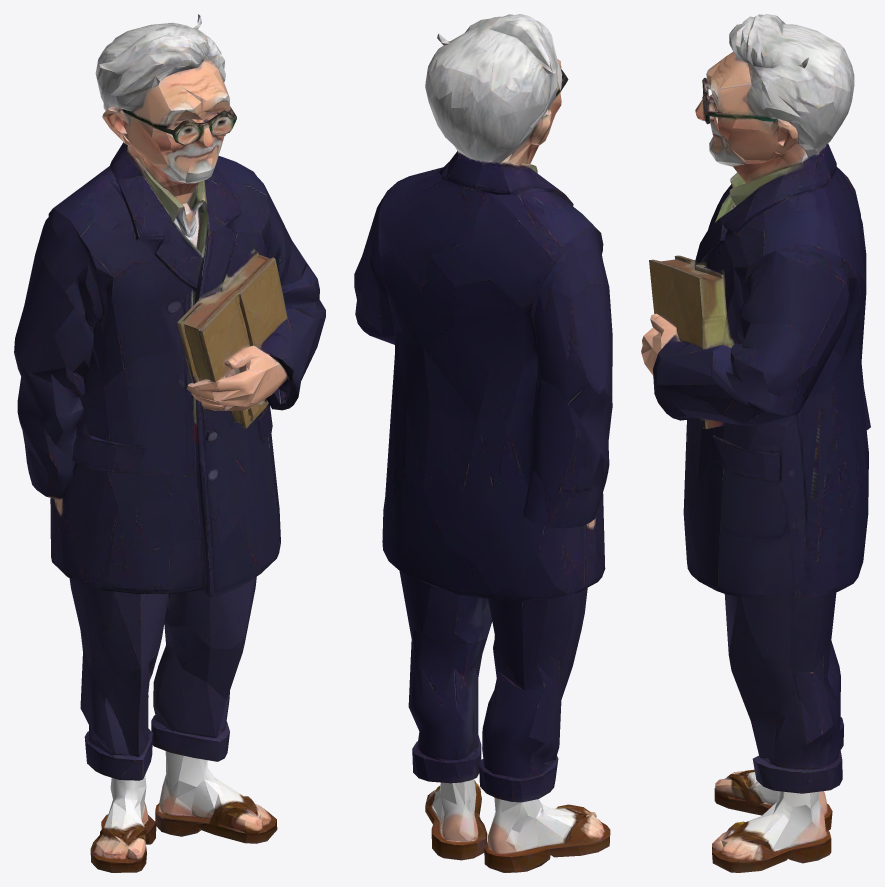
Rendered from villager_odd.glb.
3 views of the same model, side by side, from view 1: azimuth 30°, elevation 25°; view 2: azimuth 150°, elevation 25°; view 3: azimuth 270°, elevation 25° (orthographic).
Bounding box in the file's own units: 0.6661 × 1.9 × 0.4849.
1 material, 1 textured.
